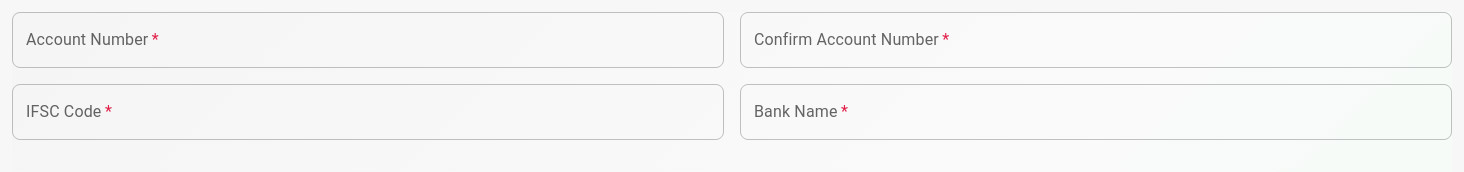
Test case: BankDetailsSection › strips non-digits typed into Account Number
Type "12ab34" into the field labelled "Account Number *".
click(368, 40); type("12ab34")  # box [12, 12, 724, 68]
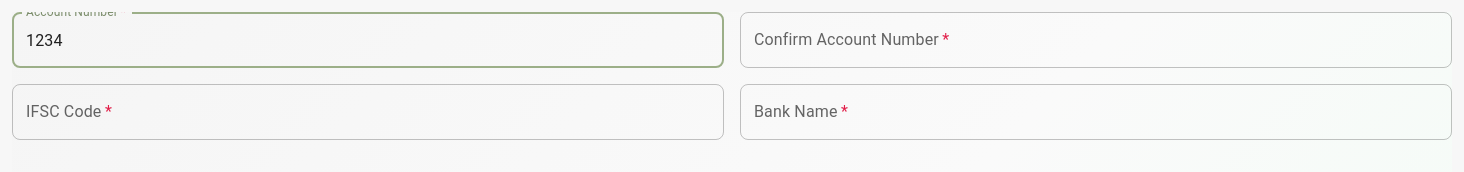
Now the field labelled "Account Number *" holds "1234", box [12, 12, 724, 68]
